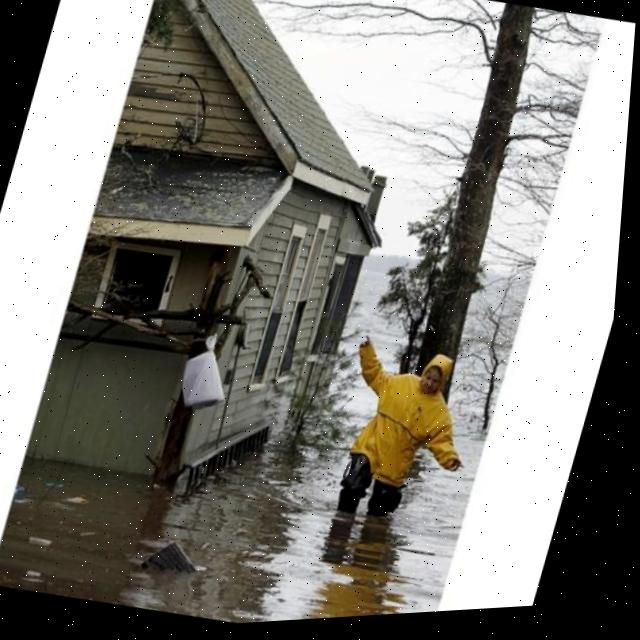civilian: (282, 300, 508, 562)
